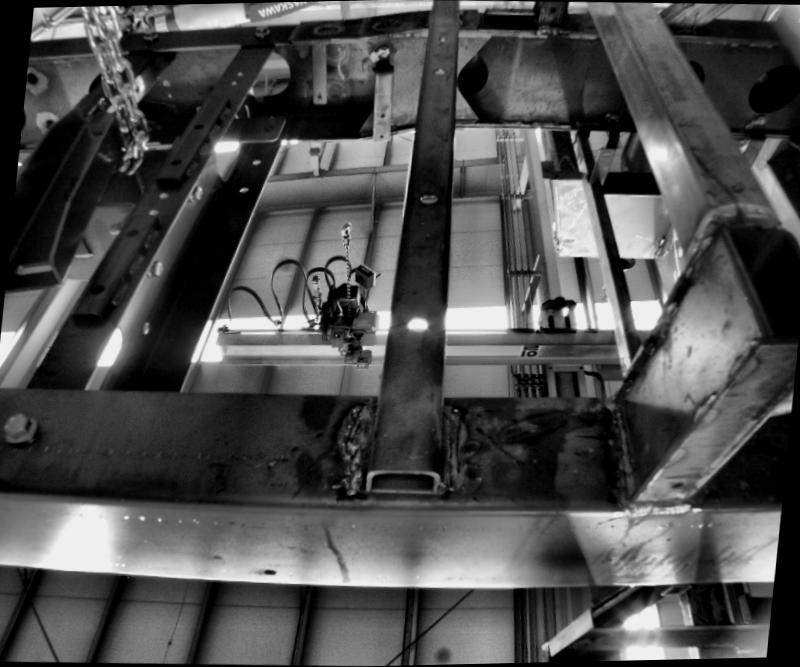bolt: (0, 407, 39, 446), (142, 258, 165, 280), (186, 182, 204, 206), (138, 26, 161, 41), (251, 24, 270, 40)
bracket: (369, 66, 395, 147), (234, 110, 288, 144), (308, 38, 334, 108), (590, 145, 616, 188)
hole: (229, 51, 297, 94), (400, 312, 432, 343), (414, 182, 440, 205), (88, 282, 102, 296), (248, 154, 264, 165), (432, 65, 448, 76), (168, 154, 182, 166), (124, 226, 137, 238), (668, 480, 683, 490), (259, 566, 272, 576), (156, 190, 170, 199), (145, 208, 160, 216), (235, 186, 248, 195), (263, 122, 273, 132), (436, 32, 447, 41), (600, 152, 611, 160), (192, 122, 204, 129), (142, 322, 148, 334), (378, 110, 386, 118), (230, 78, 237, 86), (236, 70, 244, 76), (318, 93, 324, 100), (550, 7, 556, 14), (378, 135, 384, 140)
welding: (441, 401, 485, 496), (332, 403, 366, 498)
